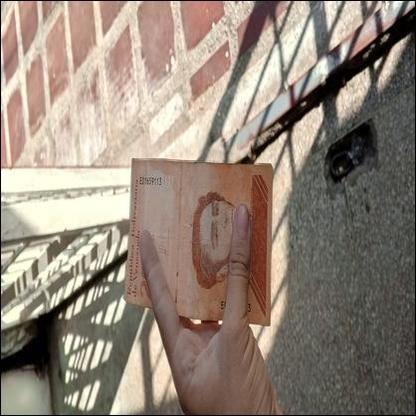twenty-front-vef: (122, 157, 274, 325)
